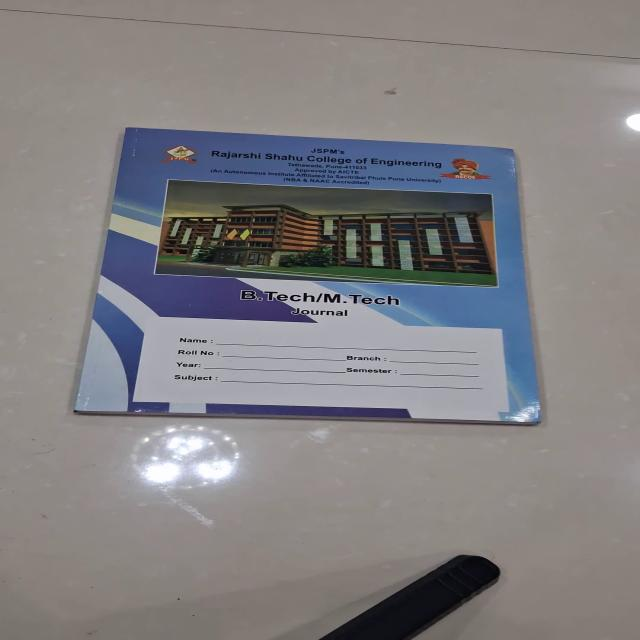paper: (72, 127, 544, 424)
